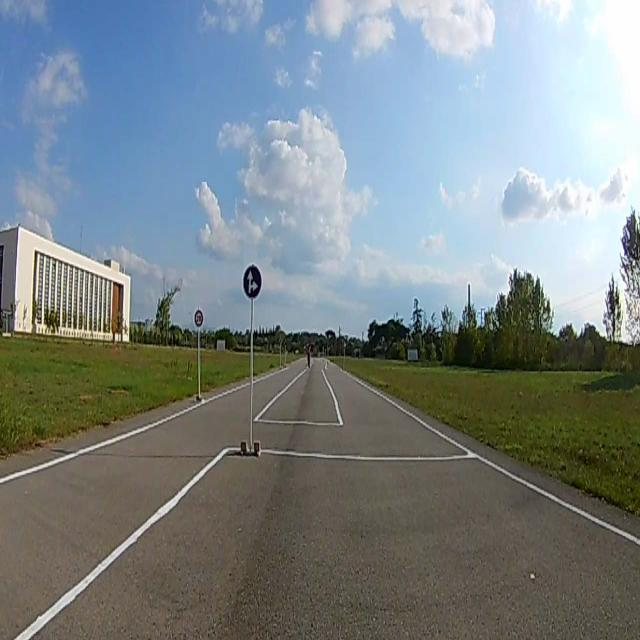ilerisag: (242, 265, 262, 299)
